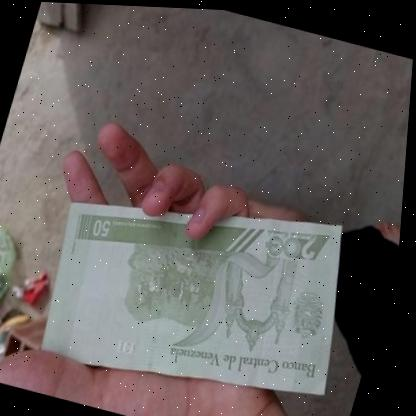fifty-back-vef: (31, 154, 380, 416)
